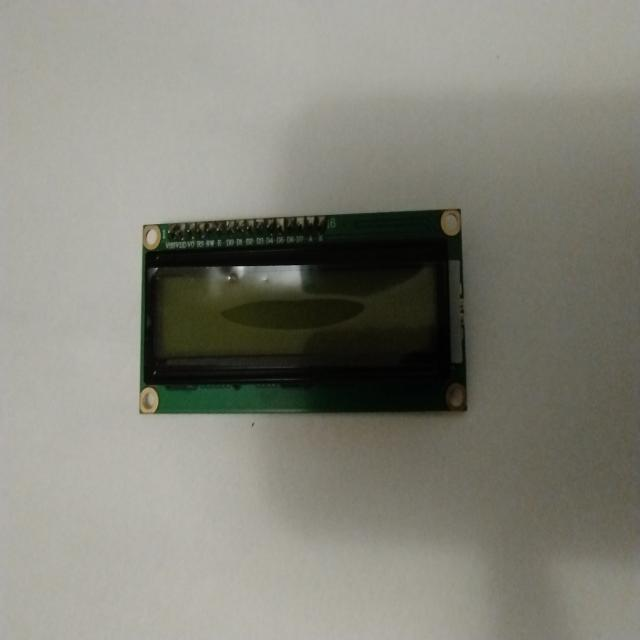lcd: (138, 207, 468, 416)
